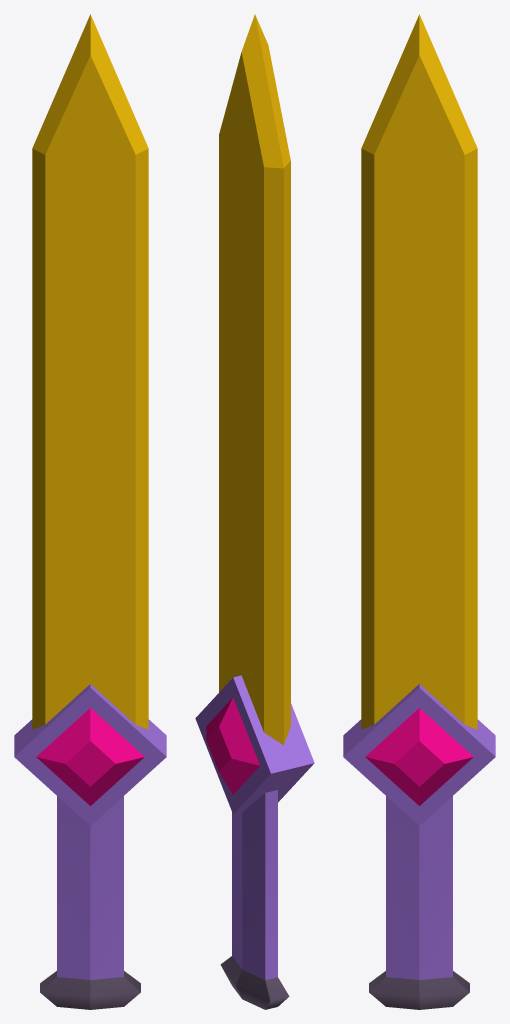
File: espadicawapa.fbx
3 renders of one model, left to right at view 1: azimuth 90°, elevation 25°; view 2: azimuth 210°, elevation 25°; view 3: azimuth 270°, elevation 25°, orthographic.
Parts seen in each view (by area): view 1: pCube3; view 2: pCube3; view 3: pCube3.
Part boxes in pixels (<box>): pCube3: <box>14,14,166,1009</box>; pCube3: <box>195,14,314,1009</box>; pCube3: <box>343,14,495,1009</box>.
Bounding box in the file's own units: 28.38 × 371 × 51.8.
